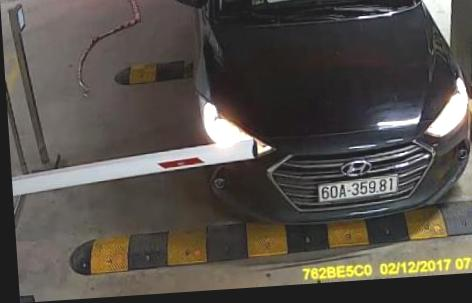License_Plate: (314, 174, 404, 204)
